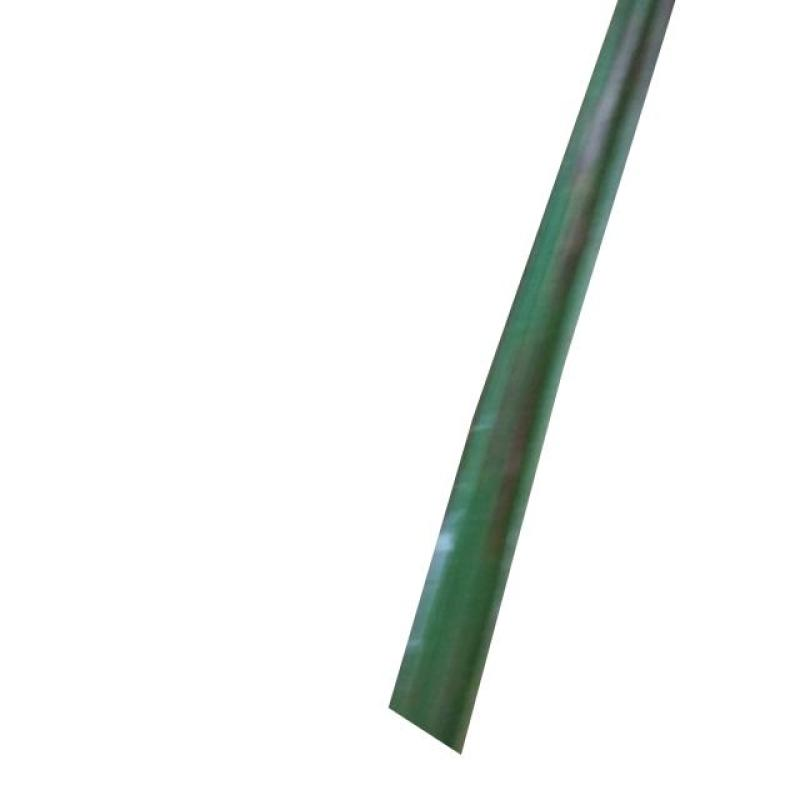Bacterial_Leaf_Blight: (569, 20, 645, 194)
